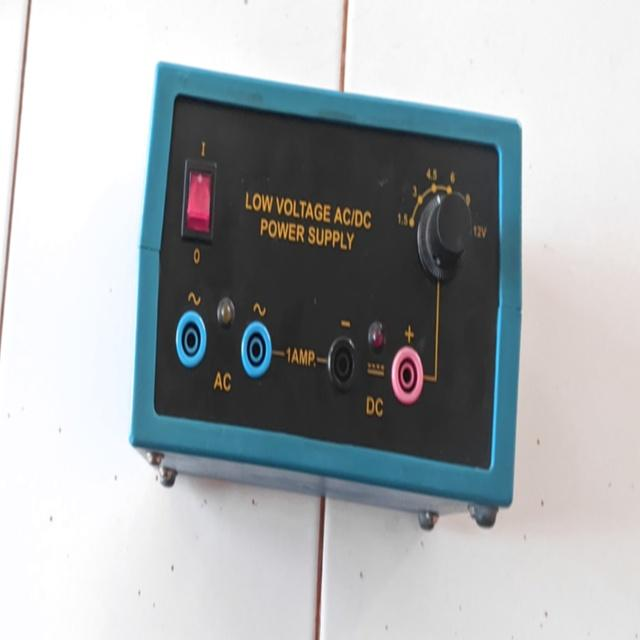Low Voltage AC-DC Power Supply 12 V: (115, 12, 556, 606)
